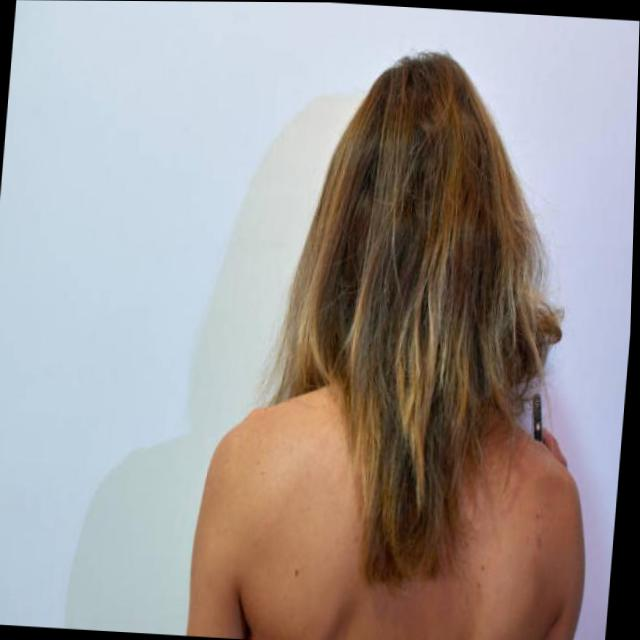no helmet: (275, 44, 577, 451)
